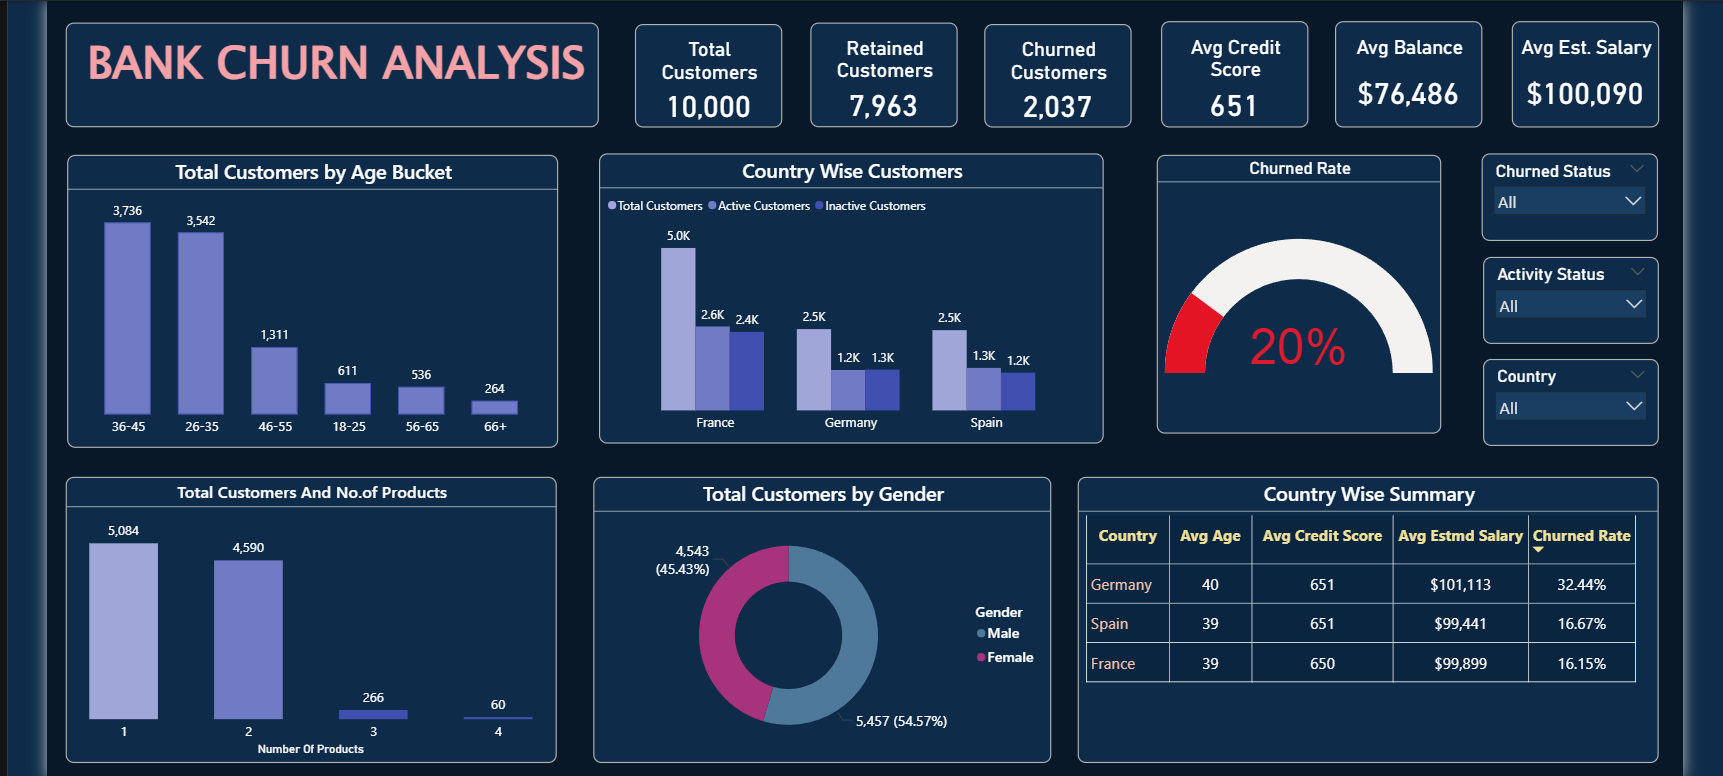

The page's visual inventory and layout, read from the dashboard file:
{"tool":"powerbi","page":{"name":"OVERVIEW","canvas":[2000,950],"ordinal":0},"visuals":[{"type":"card","title":"Total Customers","fields":{"Values":["Measuress.Total Customers"]},"box":[718.3,28.3,180,126.7],"z":0},{"type":"card","title":"Churned Customers","fields":{"Values":["Measuress.Churned Customers"]},"box":[1146.7,28.3,180,126.7],"z":1000},{"type":"card","title":"Retained Customers","fields":{"Values":["Measuress.Retained Customers"]},"box":[933.3,26.7,180,128.3],"z":2000},{"type":"gauge","title":"Churned Rate","fields":{"Y":["Measuress.Churned Rate"]},"box":[1356.7,188,348,340.9],"z":3000},{"type":"card","title":"Avg Credit Score","fields":{"Values":["Measuress.AVG Credit Score"]},"box":[1361.7,25,180,130],"z":4000},{"type":"card","title":"Avg Balance","fields":{"Values":["Measuress.AVG Balance"]},"box":[1575,25,180,130],"z":5000},{"type":"card","title":"Avg Est. Salary","fields":{"Values":["Measuress.AVG Estimated Salary"]},"box":[1790,25,180,130],"z":6000},{"type":"donutChart","fields":{"Category":["Bank_Churn_01.gender"],"Y":["Measuress.Total Customers"]},"box":[668,582,560,350],"z":7000},{"type":"tableEx","title":"Country Wise Summary","fields":{"Values":["Bank_Churn_01.country","Measuress.AVG Age","Measuress.AVG Credit Score","Measuress.AVG Estimated Salary","Measuress.Churned Rate"]},"box":[1260,582,710,350],"z":8000},{"type":"clusteredColumnChart","title":"Country Wise Customers","fields":{"Category":["Bank_Churn_01.country"],"Y":["Measuress.Total Customers","Measuress.Active Customers","Measuress.Inactive Customers"]},"box":[674.9,186.3,616.9,355],"z":9000},{"type":"columnChart","title":"Total Customers And No.of Products","fields":{"Category":["Bank_Churn_01.number_of_bank_products"],"Y":["Measuress.Total Customers"]},"box":[23.3,581.7,600,350],"z":10000},{"type":"columnChart","fields":{"Category":["Bank_Churn_01.Age Bucket"],"Y":["Measuress.Total Customers"]},"box":[24,188,600,358],"z":11000},{"type":"textbox","box":[22.8,26.4,652,128.3],"z":12000},{"type":"slicer","title":"Churned Status","fields":{"Values":["Bank_Churn_01.churned_status"]},"box":[1754.5,187.1,215.7,106.9],"z":13000},{"type":"slicer","title":"Activity Status","fields":{"Values":["Bank_Churn_01.activity_status"]},"box":[1755,313.3,215,106.7],"z":14000},{"type":"slicer","title":"Country","fields":{"Values":["Bank_Churn_01.country"]},"box":[1755,438.3,215,106.7],"z":15000}]}

Visuals, with their boxes on the page's 2000x950 design canvas (x1, y1, x2, y2). These are canvas units, not pixel positions in the 1723x776 screenshot, which may show the page scaled, cropped or inside an application window:
"Total Customers" card: l=718, t=28, r=898, b=155
"Churned Customers" card: l=1147, t=28, r=1327, b=155
"Retained Customers" card: l=933, t=27, r=1113, b=155
"Churned Rate" gauge: l=1357, t=188, r=1705, b=529
"Avg Credit Score" card: l=1362, t=25, r=1542, b=155
"Avg Balance" card: l=1575, t=25, r=1755, b=155
"Avg Est. Salary" card: l=1790, t=25, r=1970, b=155
donutChart - Bank_Churn_01.gender x Measuress.Total Customers: l=668, t=582, r=1228, b=932
"Country Wise Summary" tableEx: l=1260, t=582, r=1970, b=932
"Country Wise Customers" clusteredColumnChart: l=675, t=186, r=1292, b=541
"Total Customers And No.of Products" columnChart: l=23, t=582, r=623, b=932
columnChart - Bank_Churn_01.Age Bucket x Measuress.Total Customers: l=24, t=188, r=624, b=546
textbox: l=23, t=26, r=675, b=155
"Churned Status" slicer: l=1754, t=187, r=1970, b=294
"Activity Status" slicer: l=1755, t=313, r=1970, b=420
"Country" slicer: l=1755, t=438, r=1970, b=545
